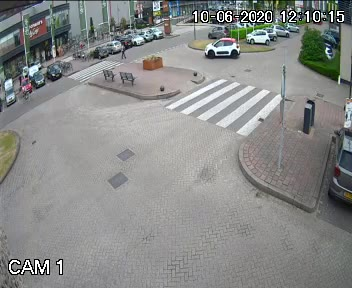car: (196, 34, 239, 59)
